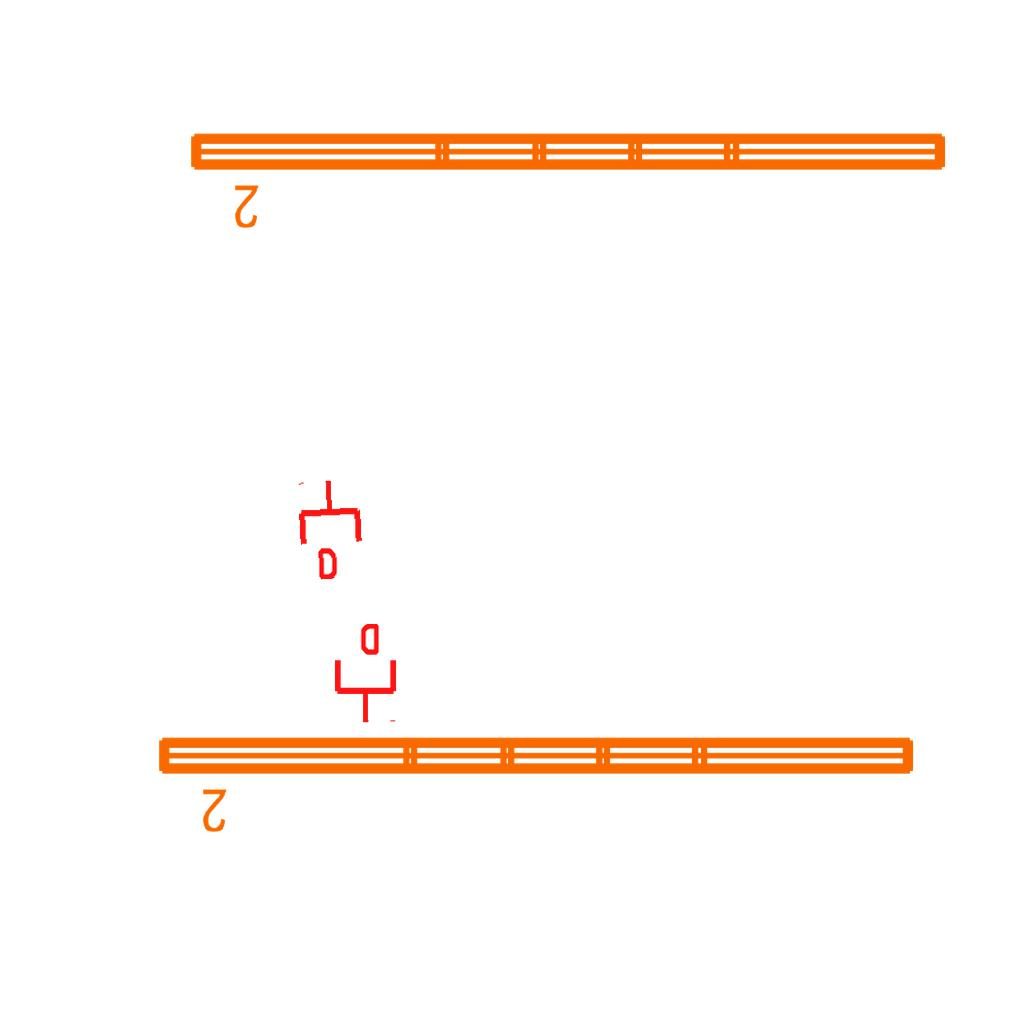Ambulanz_Pendelleuchte_LED: (182, 121, 956, 233), (150, 725, 924, 837)
Datenanschluss_einfach: (293, 477, 368, 581), (331, 624, 400, 724)
